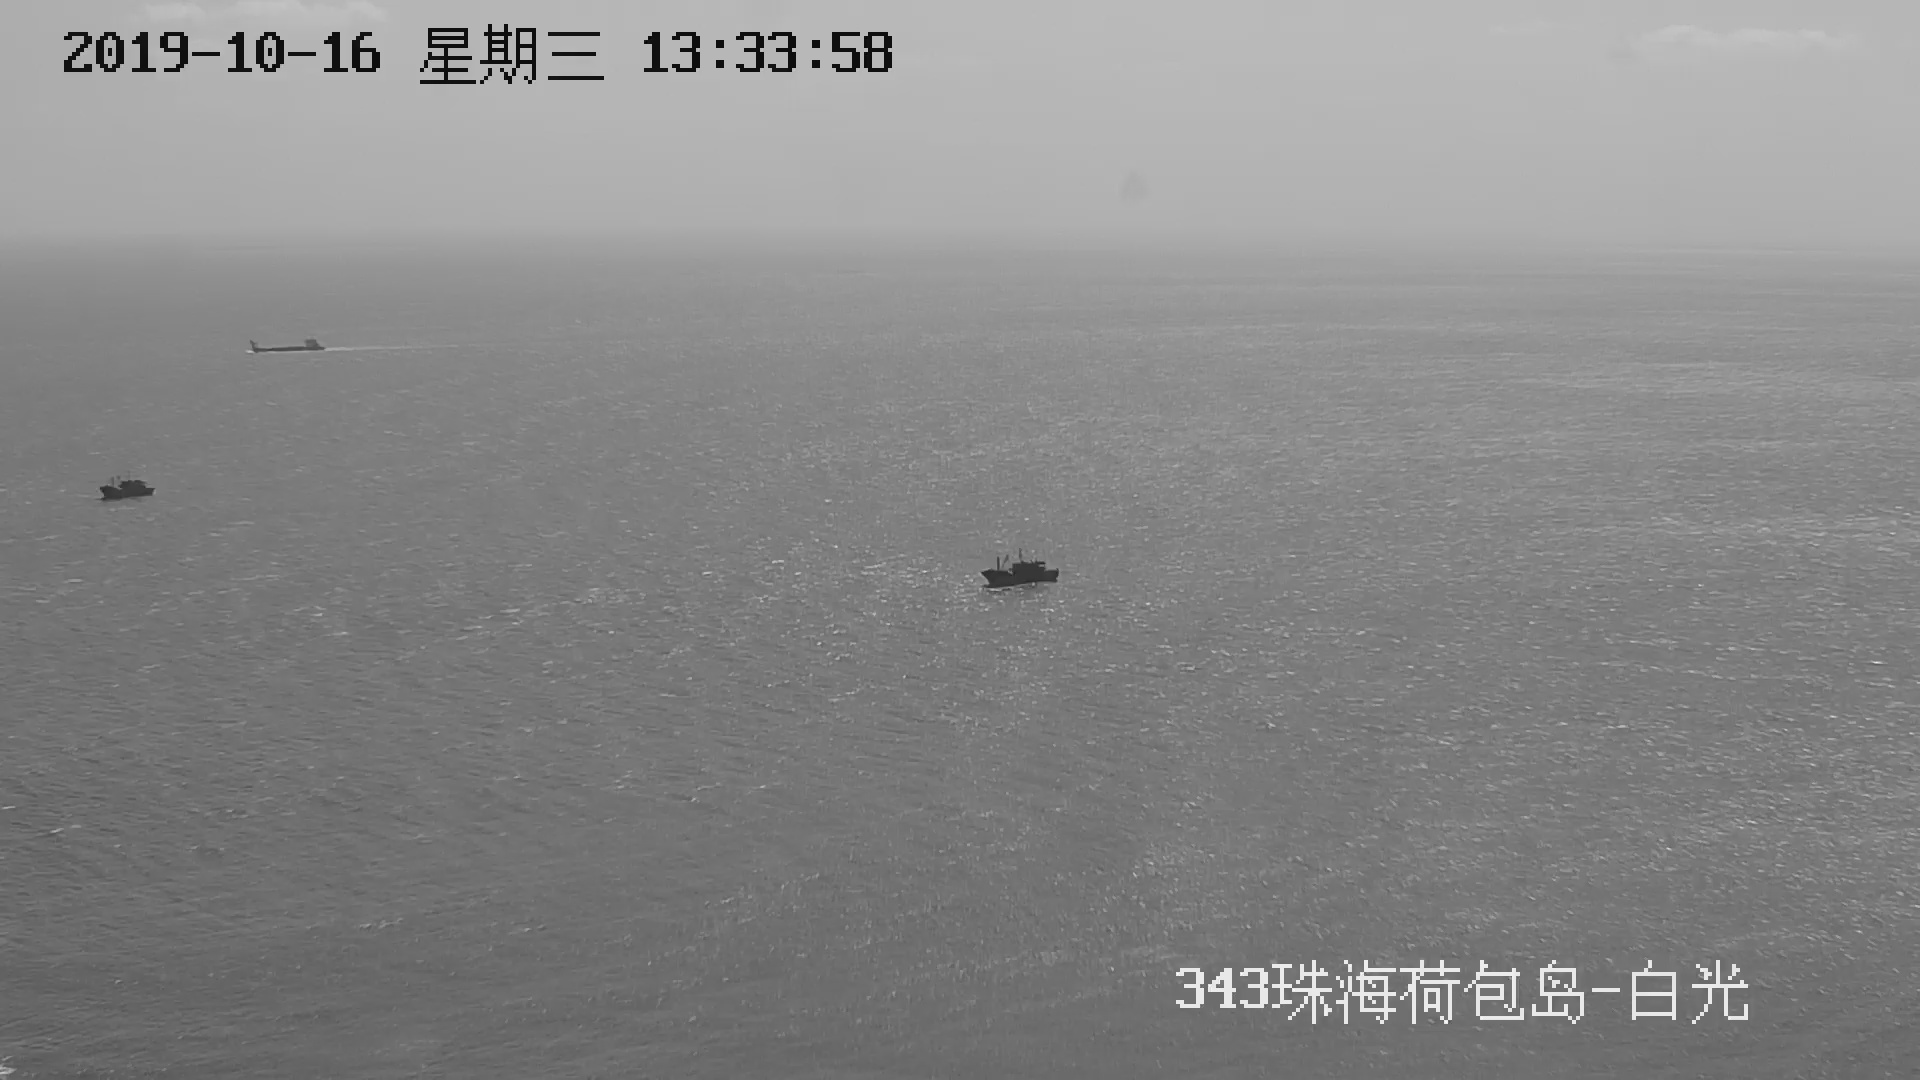ship: (980, 551, 1060, 588), (248, 334, 330, 357), (94, 473, 154, 504)
